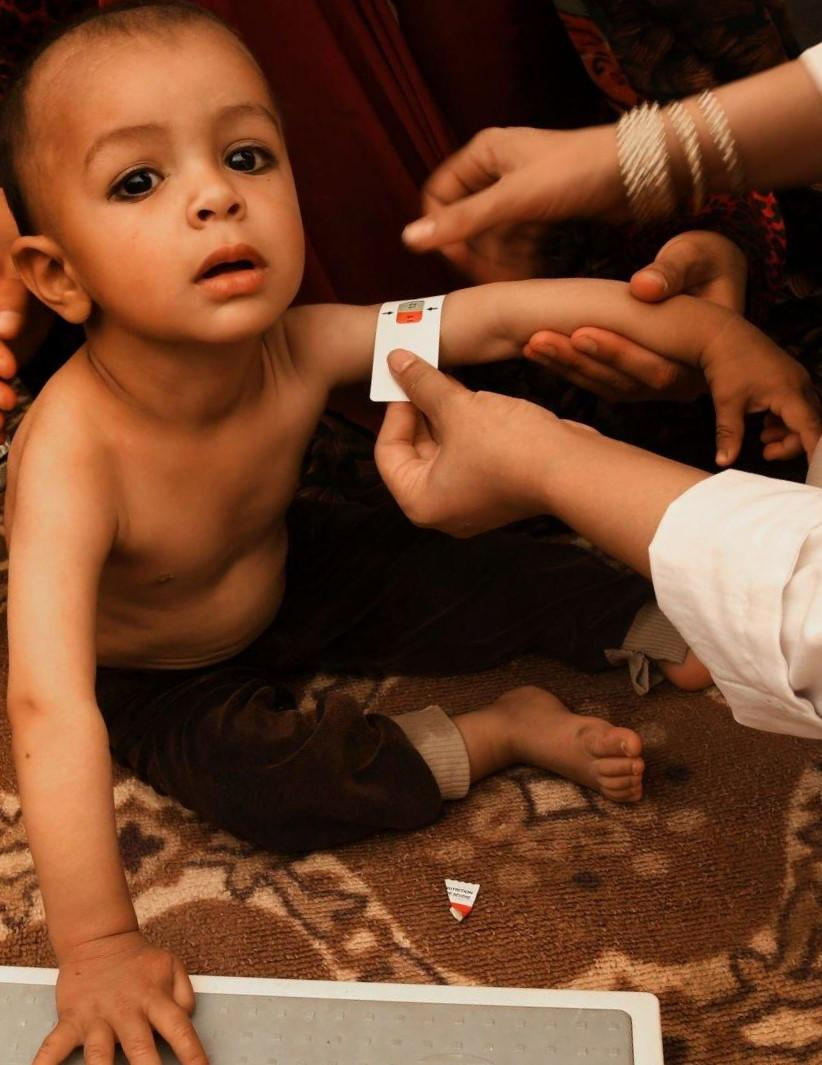Stunting: (0, 15, 352, 395)
